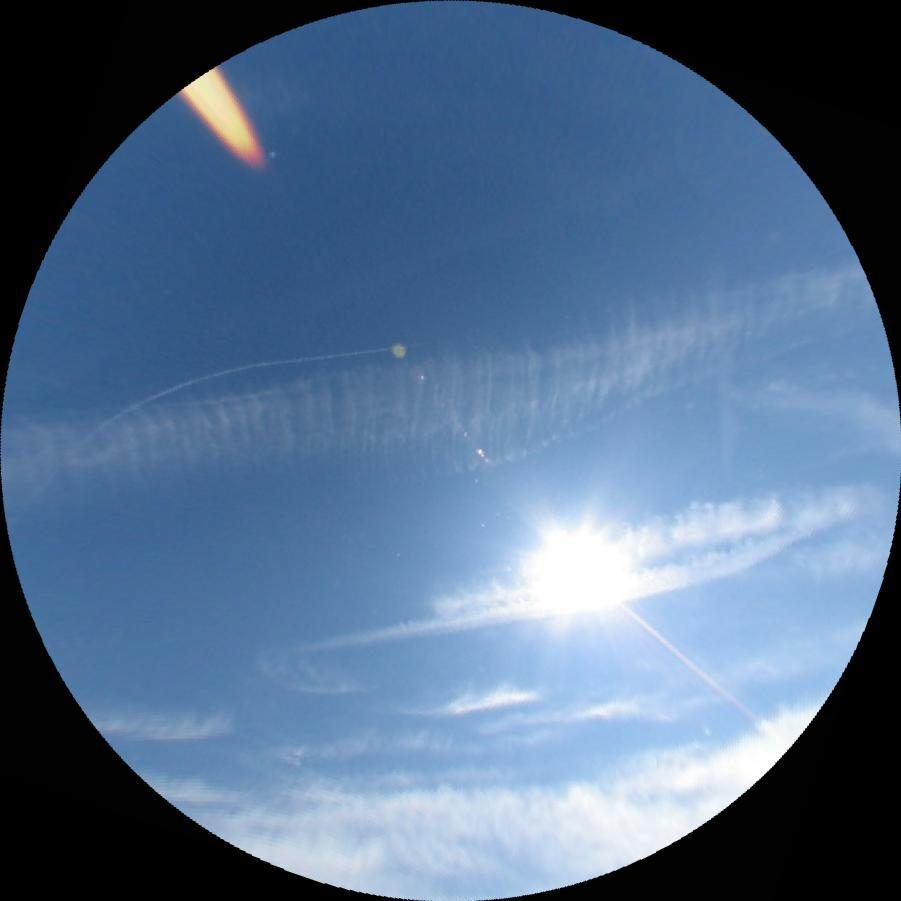contrail veryold: (0, 251, 894, 555), (296, 469, 896, 700), (425, 483, 787, 622), (715, 353, 740, 470)
contrail young: (74, 310, 433, 445)
parasite: (611, 596, 760, 723)
sun: (529, 532, 628, 608)
